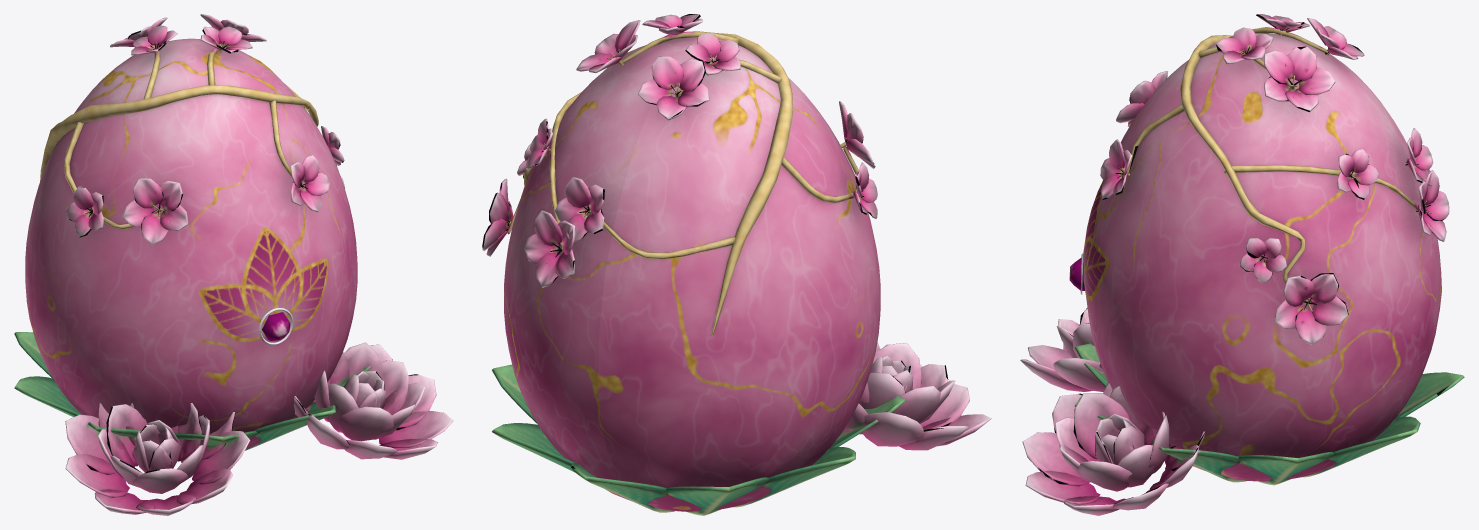
The model's file is BloomwoodEgg.fbx.
The picture shows the model from 3 angles, left to right: view 1: azimuth 30°, elevation 25°; view 2: azimuth 150°, elevation 25°; view 3: azimuth 270°, elevation 25°; orthographic projection. The views are drawn at different scales.
Parts seen in each view (by area): view 1: BloomwoodEgg_Body; view 2: BloomwoodEgg_Body; view 3: BloomwoodEgg_Body.
Part boxes in pixels (x1,y1,x2,y2): BloomwoodEgg_Body: (14, 14, 453, 515); BloomwoodEgg_Body: (482, 14, 991, 515); BloomwoodEgg_Body: (1020, 14, 1464, 515).
Bounding box in the file's own units: 2.63 × 2.82 × 2.57.
2 materials, 1 textured.
